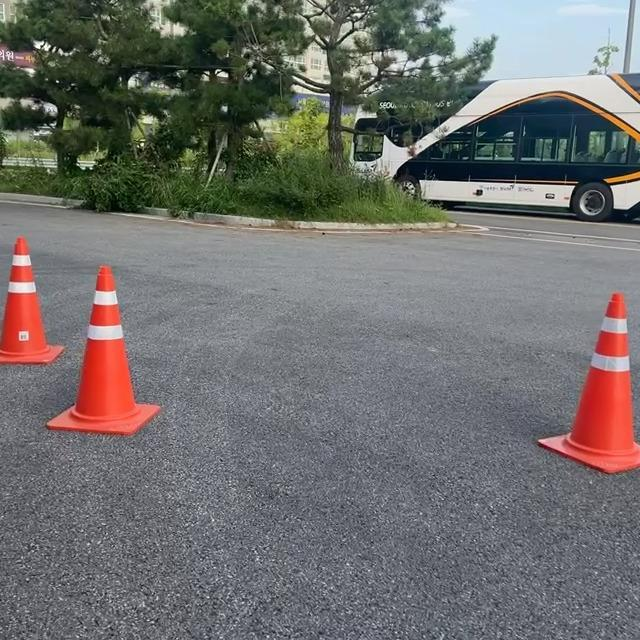fallen_object: (523, 270, 640, 502), (35, 263, 153, 434), (0, 247, 77, 387)
